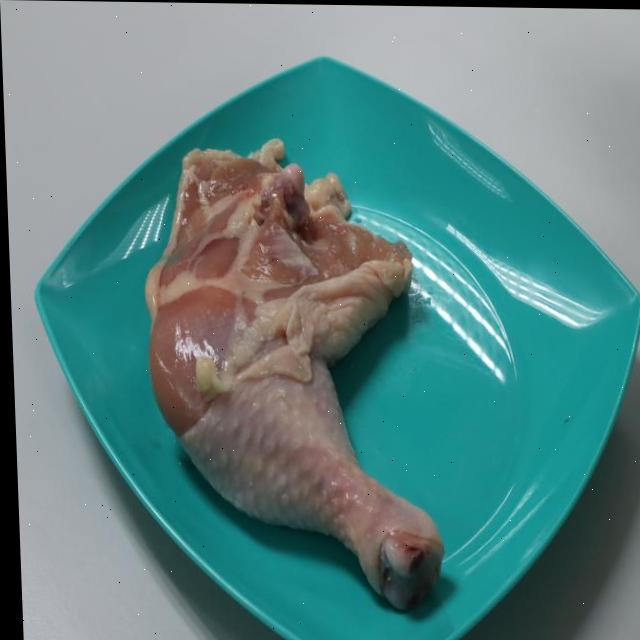quater: (151, 137, 449, 606)
